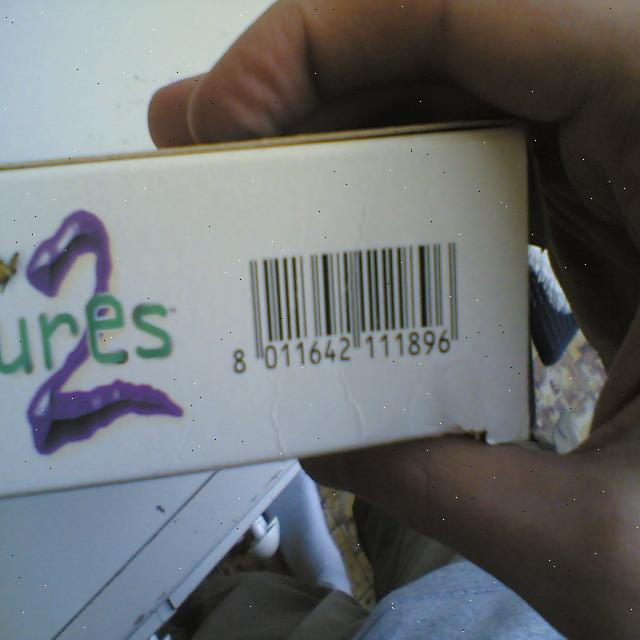barcode: (222, 227, 464, 391)
